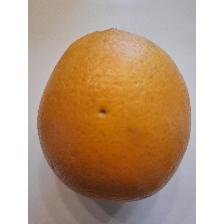Orange: (34, 22, 194, 205)
